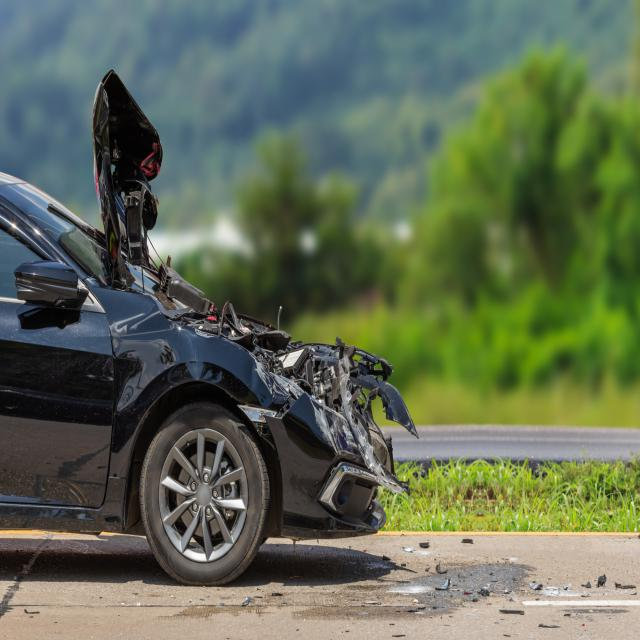Accident: (0, 49, 424, 588)
